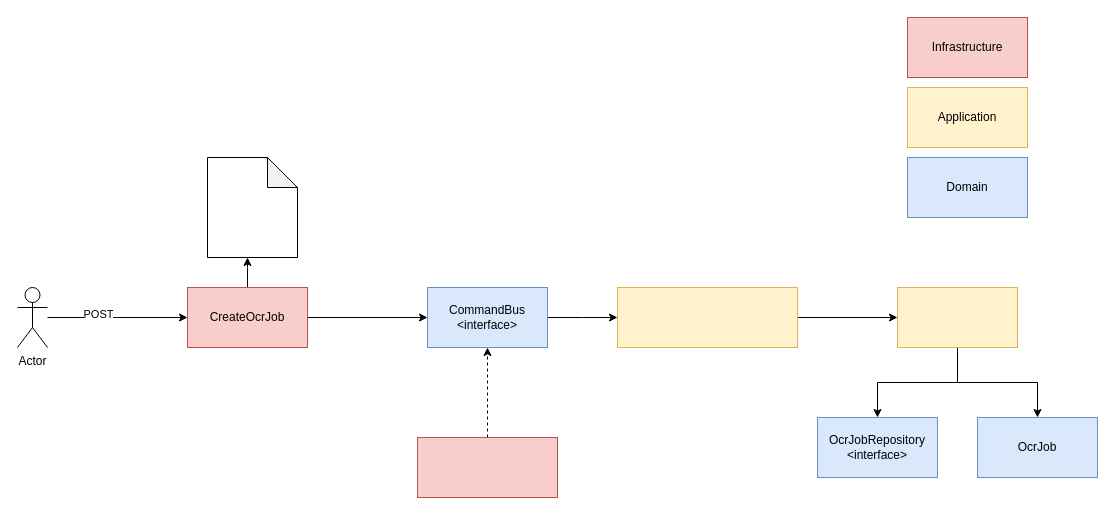
Some shapes in this 1115 by 515 pixel diagram are drawn without their labels. The shapes that lost their labels are listed below. From the top down, each one's centre as x and y in pixels, then its label:
At pixel 252 207: "OcrJobRequest".
At pixel 707 317: "OcrJobCreateCommandHandler".
At pixel 957 317: "OcrCreator".
At pixel 487 467: "InMemoryCommandBus".
